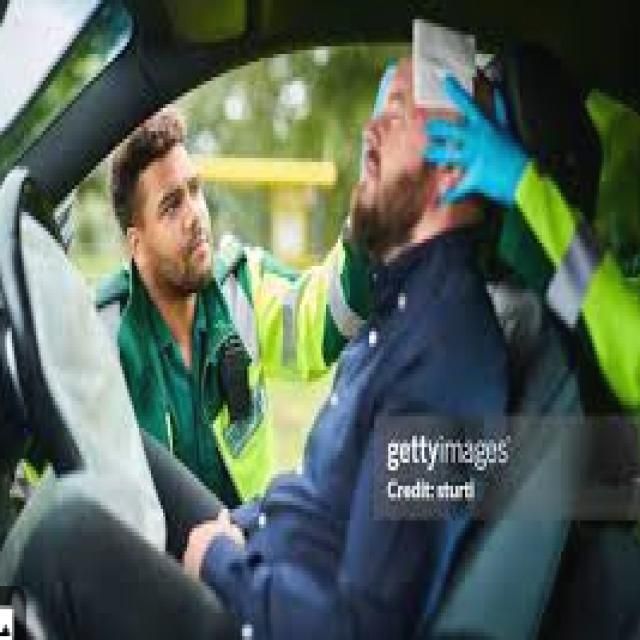injury: (337, 52, 507, 288), (111, 120, 235, 314)
